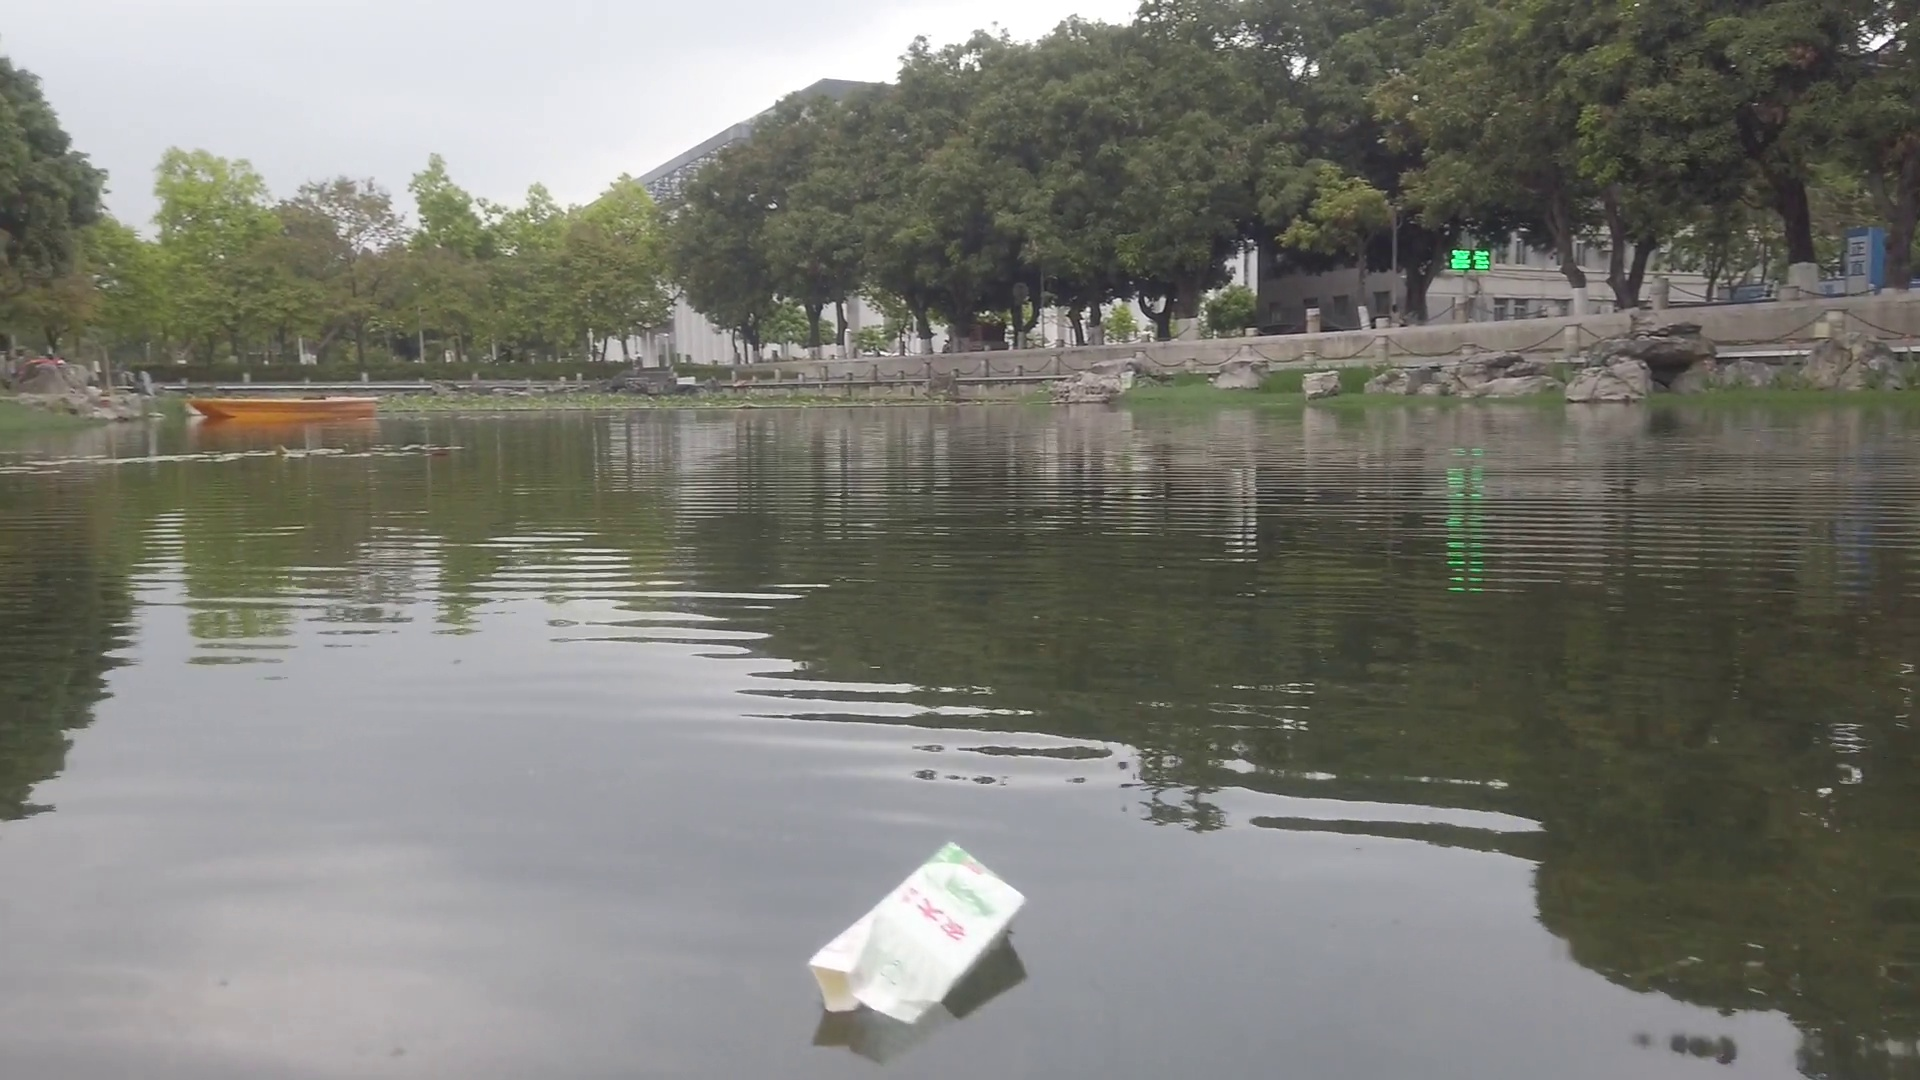carton: (808, 836, 1029, 1039)
